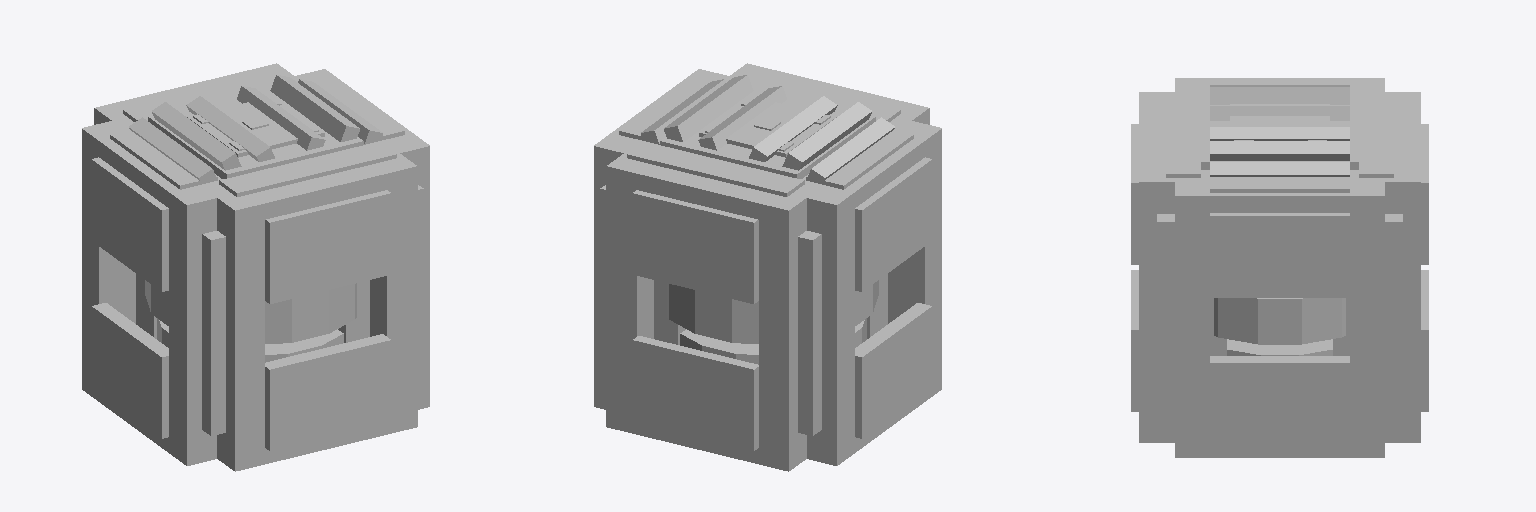
The model's file is fusionReactor.obj.
3 renders of one model, left to right at view 1: azimuth 30°, elevation 25°; view 2: azimuth 150°, elevation 25°; view 3: azimuth 270°, elevation 25°, orthographic.
Visible parts, largest first — view 1: cube, hexadecagon; view 2: cube, hexadecagon; view 3: cube, hexadecagon.
Boxes of the visible parts, x1=… form: cube: x1=82, y1=63, x2=429, y2=471; hexadecagon: x1=145, y1=280, x2=356, y2=362; cube: x1=594, y1=63, x2=941, y2=471; hexadecagon: x1=667, y1=280, x2=878, y2=364; cube: x1=1131, y1=78, x2=1428, y2=457; hexadecagon: x1=1214, y1=298, x2=1345, y2=355.
Bounding box in the file's own units: 16.59 × 17.42 × 16.59.